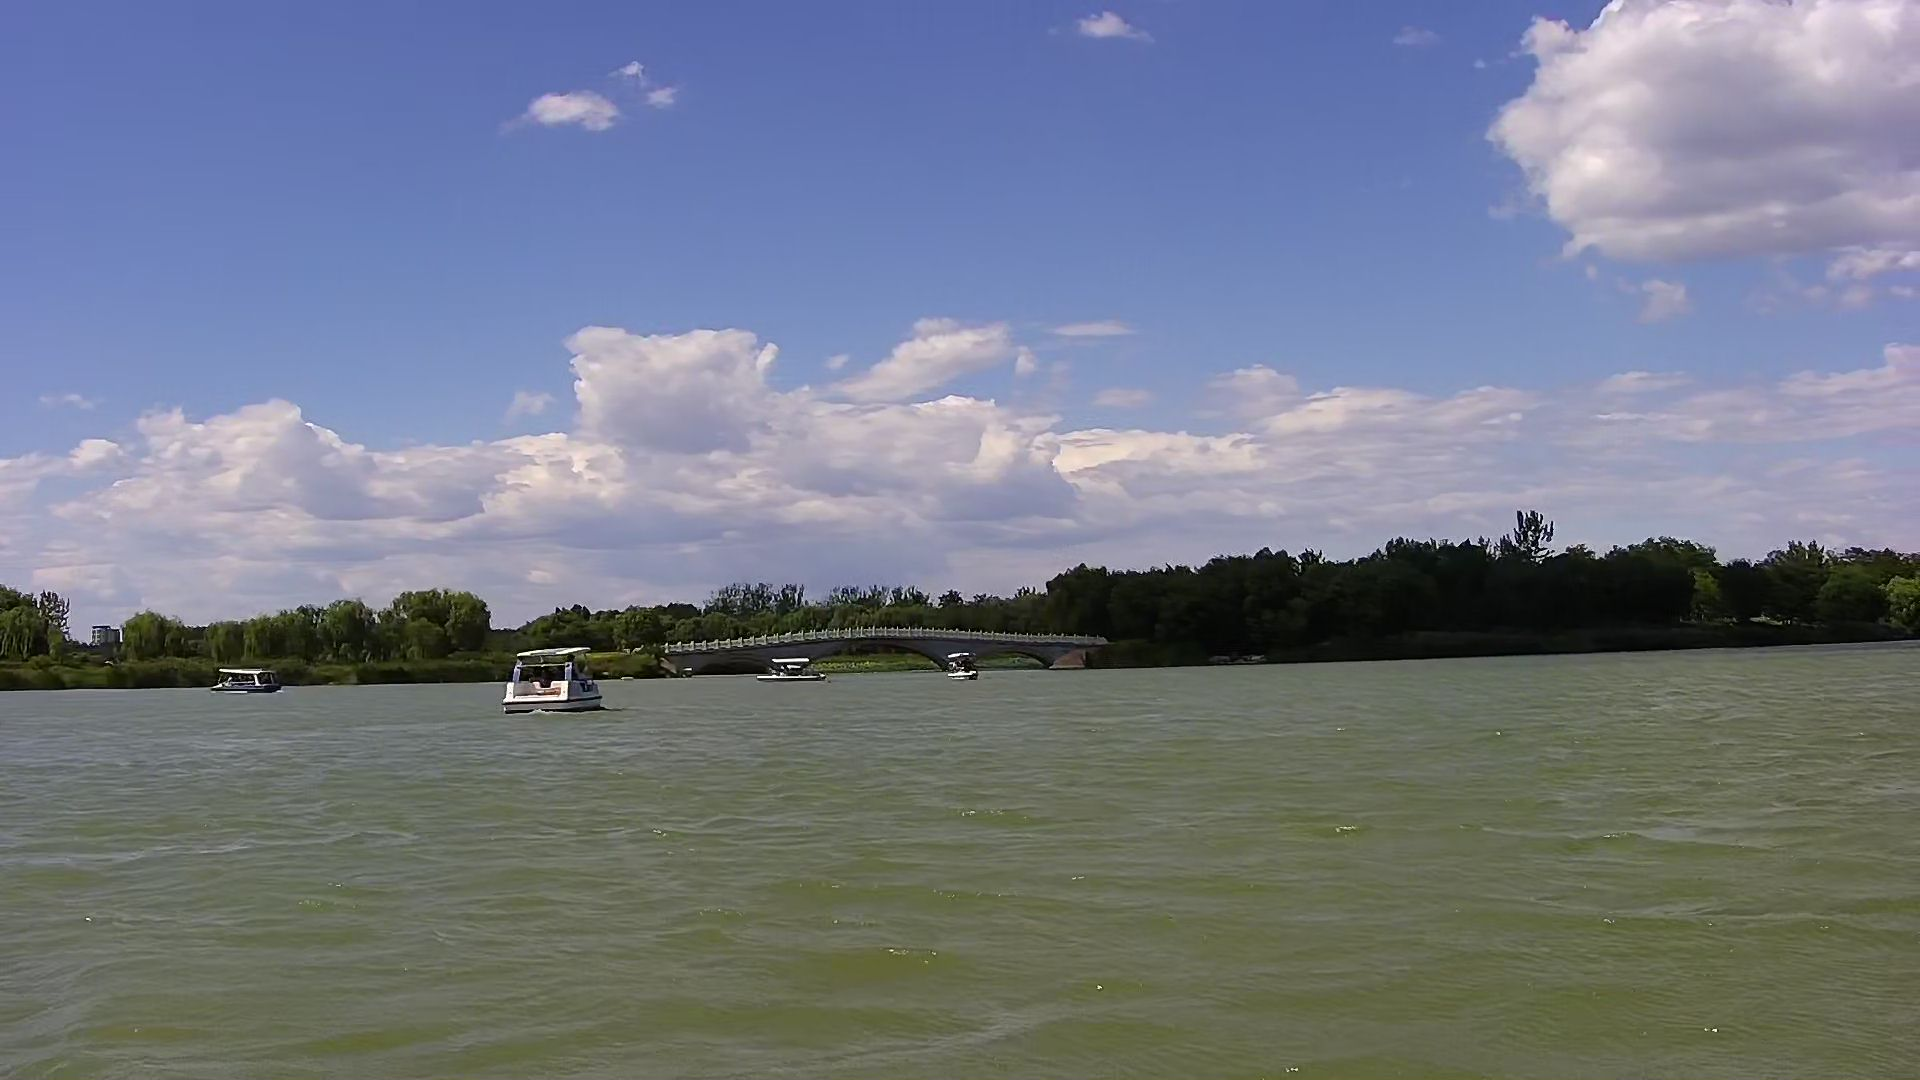boat: (493, 641, 611, 725), (204, 655, 297, 702), (930, 641, 990, 686), (756, 659, 843, 687)
bridge: (649, 611, 1116, 691)
